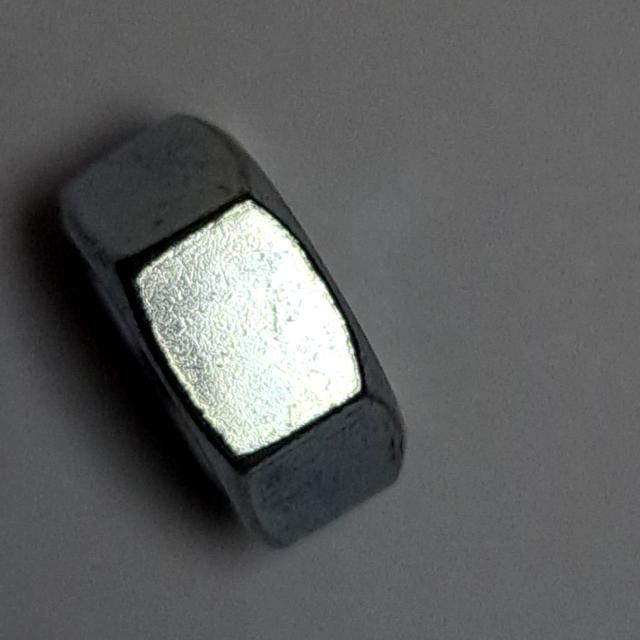Side_Excellent: (44, 100, 424, 562)
